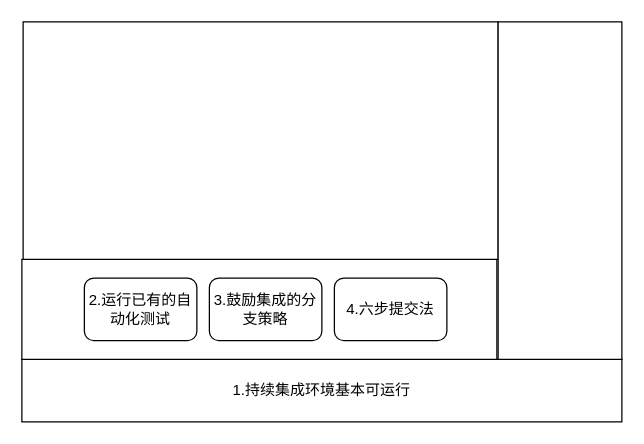
This 644x444 diagram has some shape labels left out. Here are the shapes that lost their labels. From the top down, the box of each, then its label:
(22, 21, 498, 259): 5.持续优化： 结果分析可视化 代码指令检查常规化 环境标准化规范化 编译构建时间优化 测试同源分层分级
(497, 21, 622, 359): 6.个人技能的持续提升（开发任务分解、编写自动化测试）
